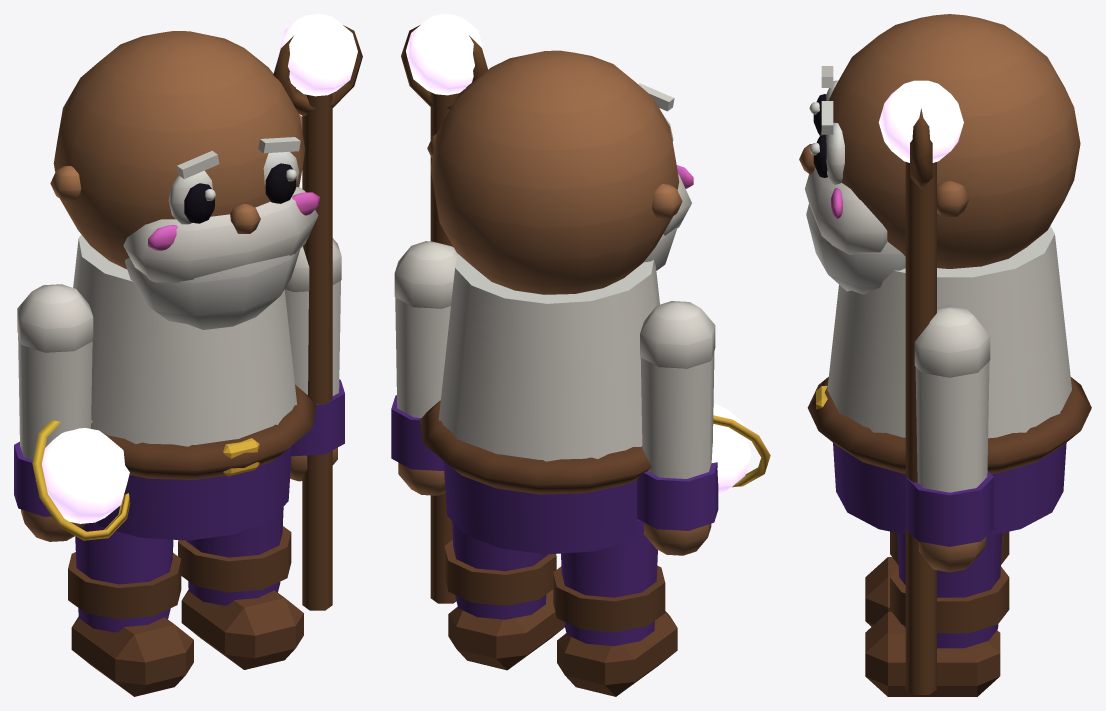
File: hero_morrow.glb
3 renders of one model, left to right at view 1: azimuth 30°, elevation 25°; view 2: azimuth 150°, elevation 25°; view 3: azimuth 270°, elevation 25°, orthographic. The views are drawn at different scales.
Visible parts, largest first — view 1: body_t0_palette, armr_t0_palette, legl_t0_palette, arml_t0_palette, legr_t0_palette, arml_t0_glow_violet, armr_t0_glow_violet; view 2: body_t0_palette, arml_t0_palette, armr_t0_palette, legl_t0_palette, legr_t0_palette, armr_t0_glow_violet, arml_t0_glow_violet; view 3: body_t0_palette, armr_t0_palette, legr_t0_palette, armr_t0_glow_violet, legl_t0_palette.
Part boxes in pixels (box(x1,y1,x2,y2)): body_t0_palette: box(50, 31, 319, 540); armr_t0_palette: box(273, 25, 362, 610); legl_t0_palette: box(68, 521, 193, 696); arml_t0_palette: box(14, 284, 130, 541); legr_t0_palette: box(178, 507, 303, 669); arml_t0_glow_violet: box(41, 428, 129, 523); armr_t0_glow_violet: box(277, 14, 357, 96); body_t0_palette: box(420, 50, 693, 554); arml_t0_palette: box(637, 301, 770, 555); armr_t0_palette: box(391, 25, 487, 603); legl_t0_palette: box(553, 519, 677, 696); legr_t0_palette: box(444, 521, 564, 670); armr_t0_glow_violet: box(406, 14, 485, 95); arml_t0_glow_violet: box(711, 404, 751, 495); body_t0_palette: box(799, 14, 1091, 535); armr_t0_palette: box(905, 108, 993, 694); legr_t0_palette: box(865, 533, 1009, 696); armr_t0_glow_violet: box(878, 80, 963, 162); legl_t0_palette: box(865, 531, 1009, 626).
Size of the model in its own units: 0.292 by 0.495 by 0.206.
